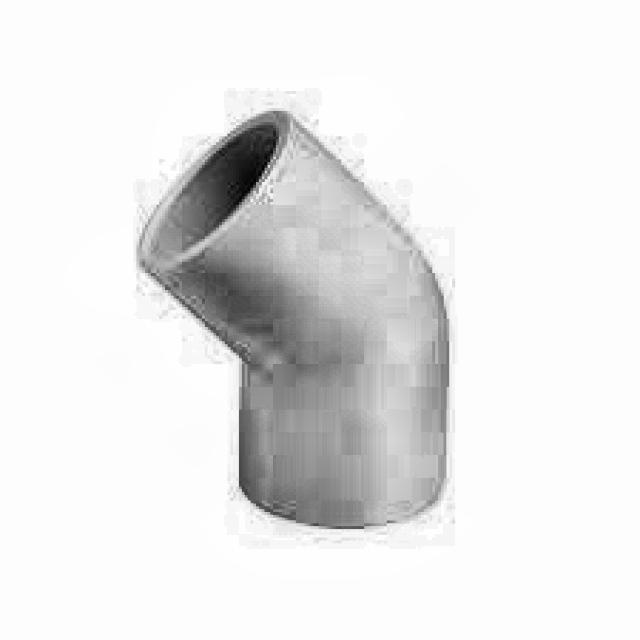ELBOW45: (137, 111, 449, 535)
